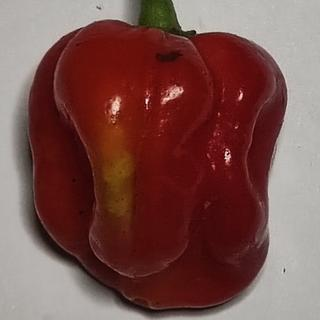Defect: (143, 42, 192, 72)
